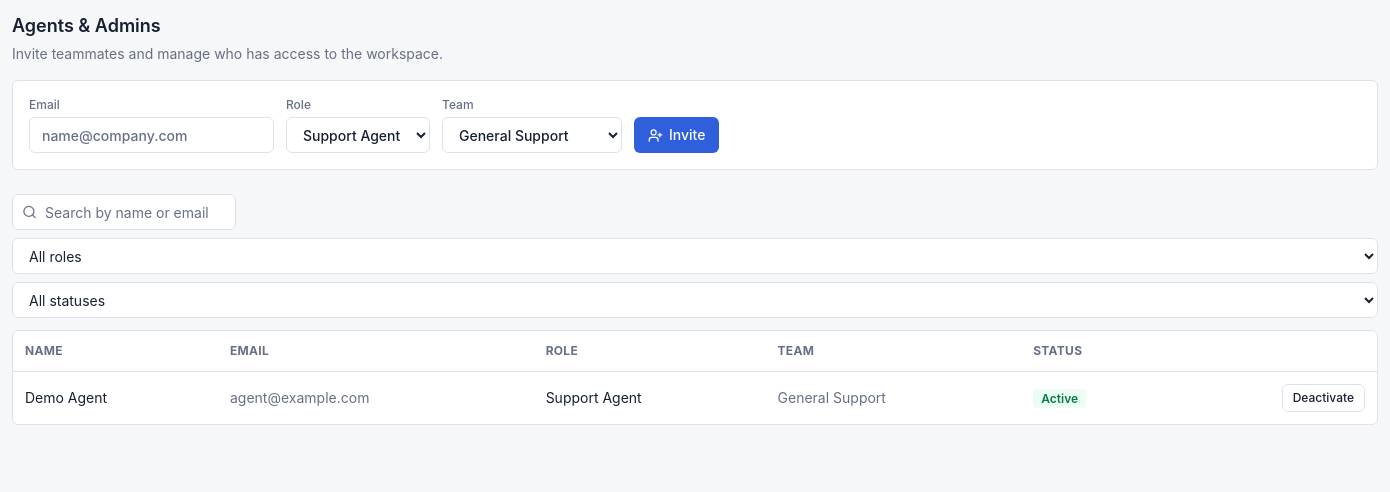
Test: AgentsPage › sends an invitation and shows the confirmation message
The width and height of the screenshot is (1390, 492).
Expected: the text "agent@example.com" is shown, [218,372,534,424]
In the field labelled "Email": (152, 135) [29,117,274,153], type "newagent@example.com"
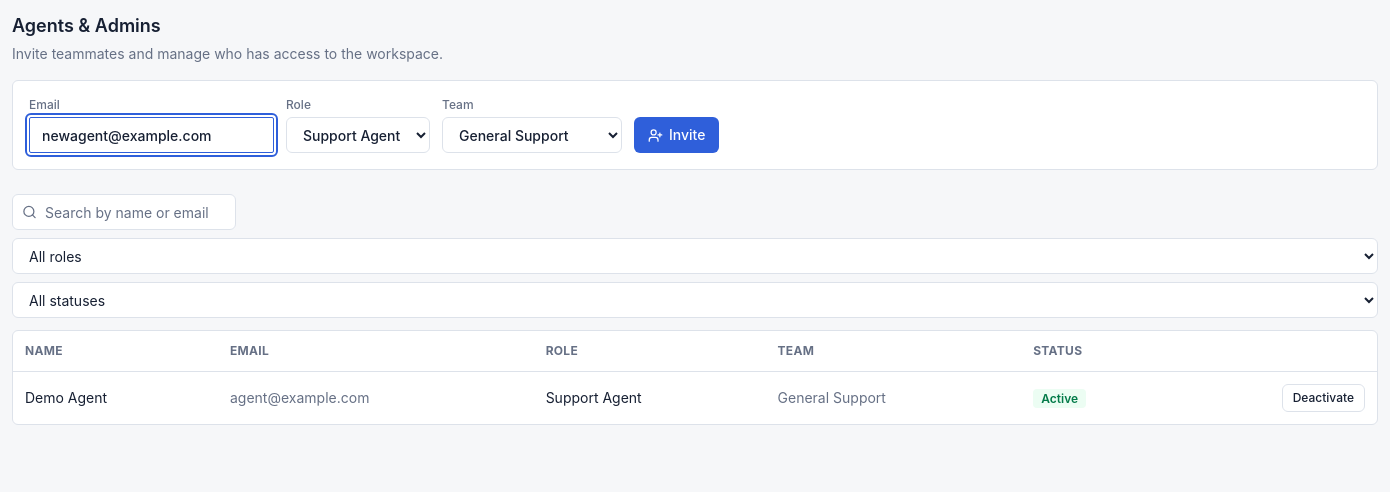
Click the button "Invite": (677, 135) [634,117,720,153]
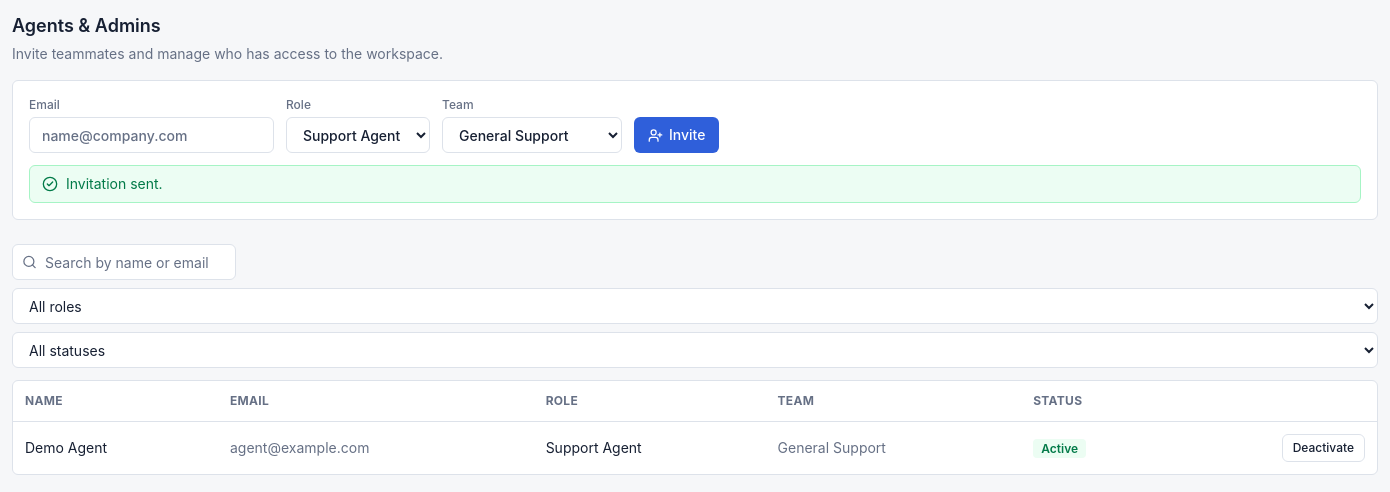
Expected: the text "Invitation sent." is shown, [66,174,163,194]
